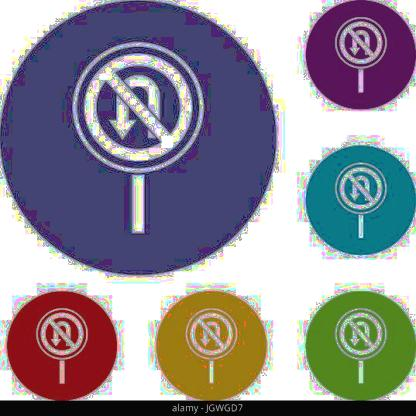No U-turn: (70, 37, 212, 174), (30, 304, 93, 360), (332, 160, 388, 218), (335, 303, 391, 360), (336, 12, 388, 72), (186, 306, 239, 362)
